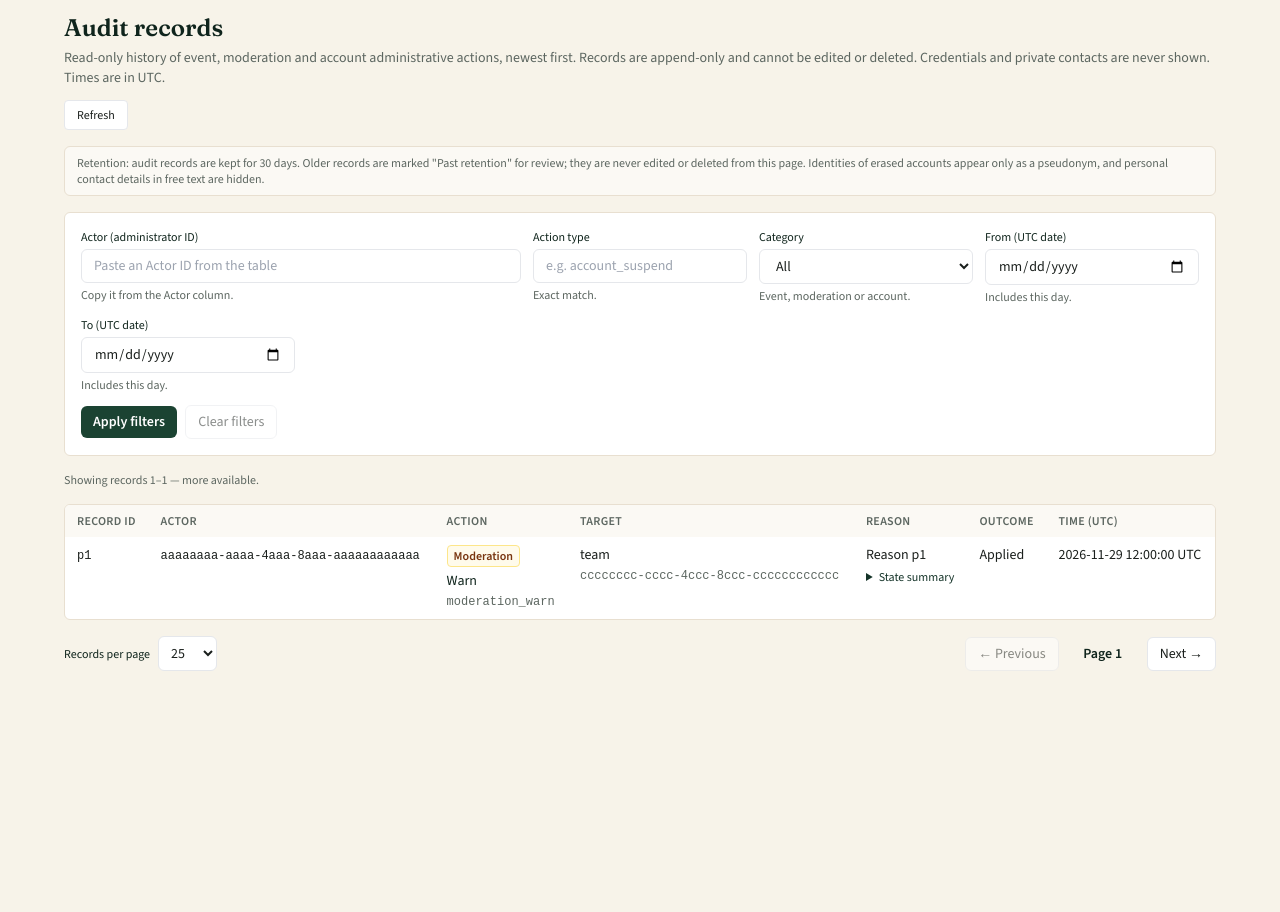
it: AuditRecordsPage retention and pseudonymization (US-028 / #263) › keeps flagging after paging and after applying a filter
This screenshot has width=1280, height=912.
Click the button with test id "audit-page-next" at (1181, 654), box [1147,636,1216,670]
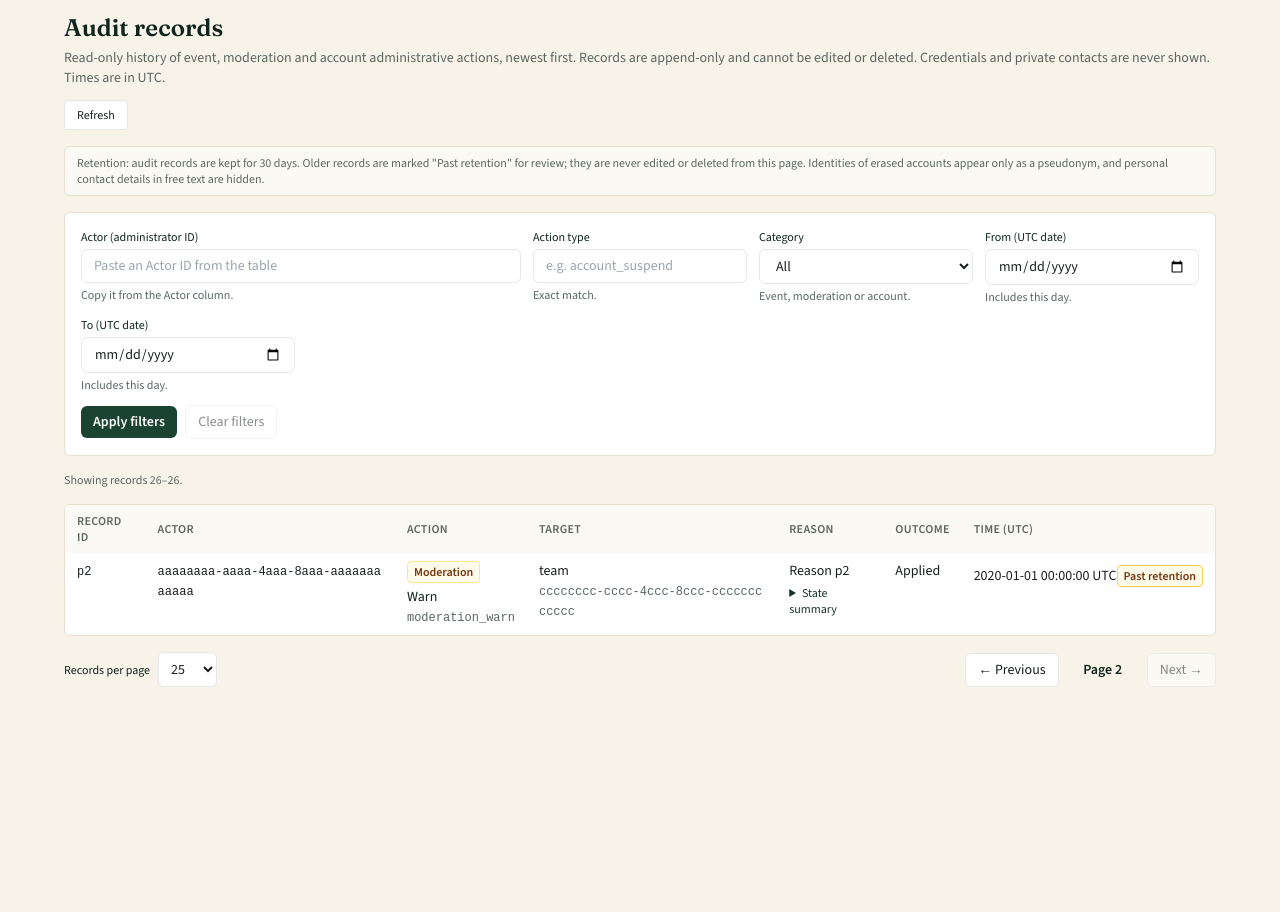
Expected: the row with test id "audit-row-p2" is shown, [65,553,1215,635]
Expected: the text "Past retention" is shown, [1116,565,1203,587]
Type "moderation_warn" into the field with test id "audit-filter-actionType" at (640, 266), box [533,249,747,283]
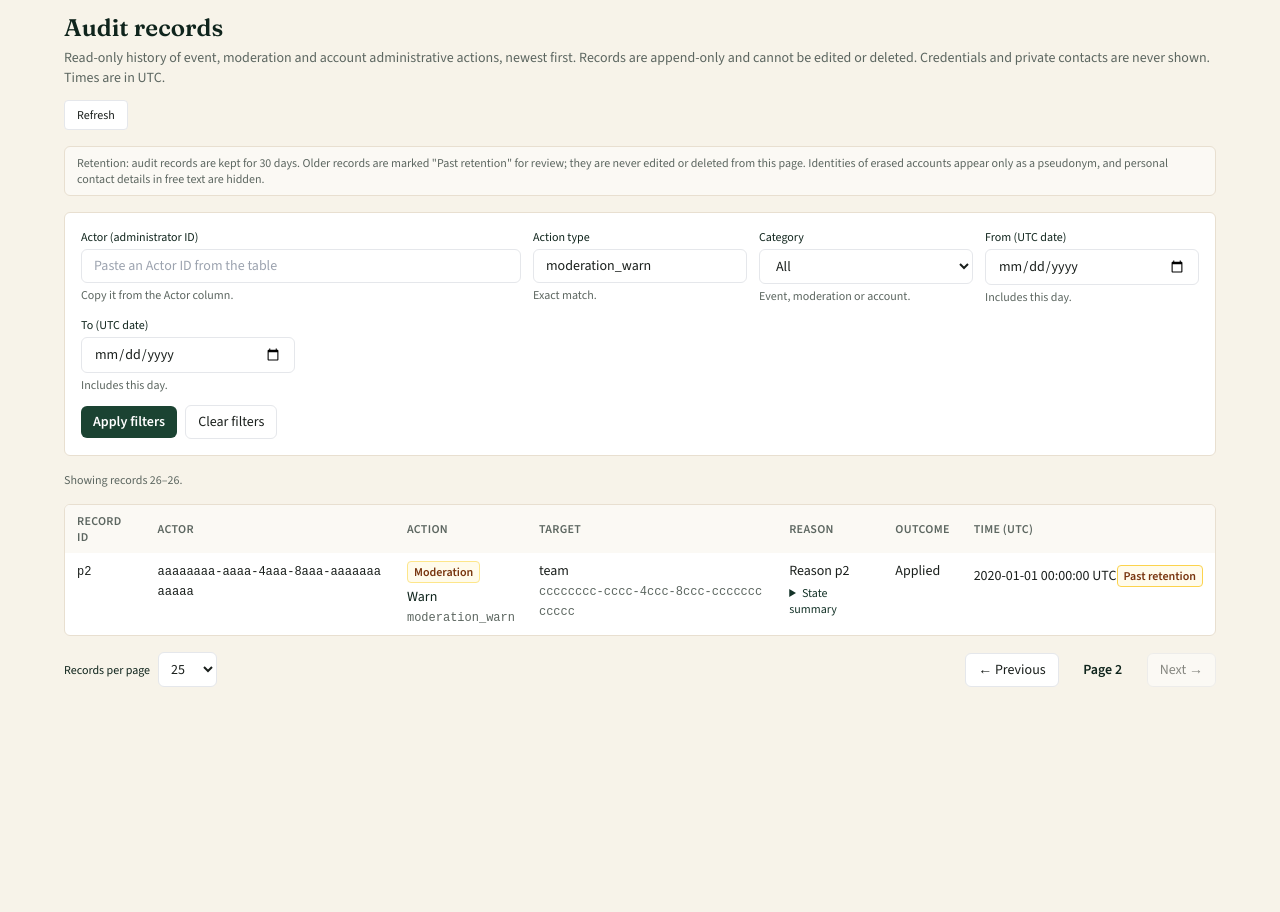
Click the button with test id "audit-filter-apply" at (129, 422), box [81,406,177,438]
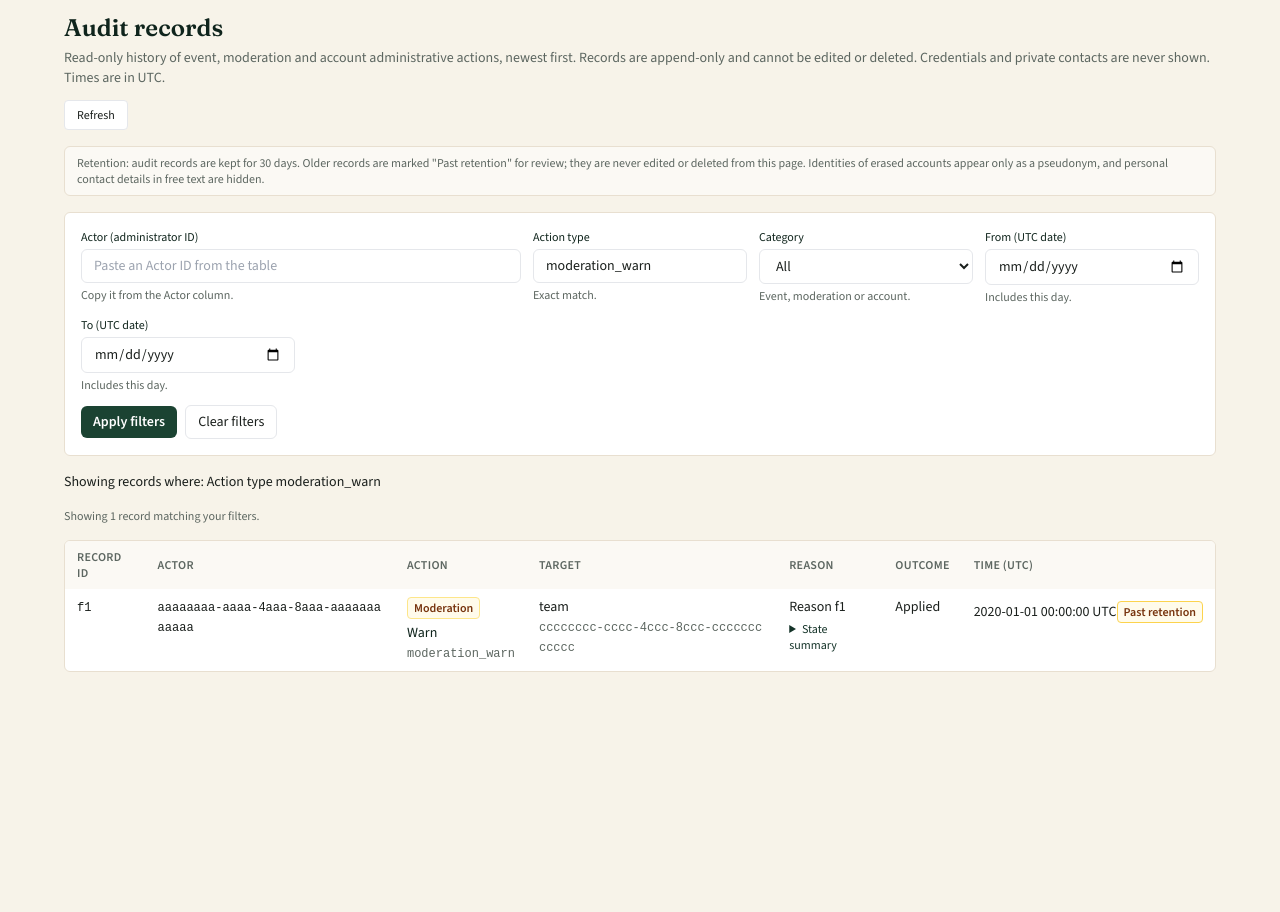
Expected: the text "Past retention" is shown, [1116,601,1203,623]
Expected: the row with test id "audit-row-f1" is shown, [65,589,1215,671]
